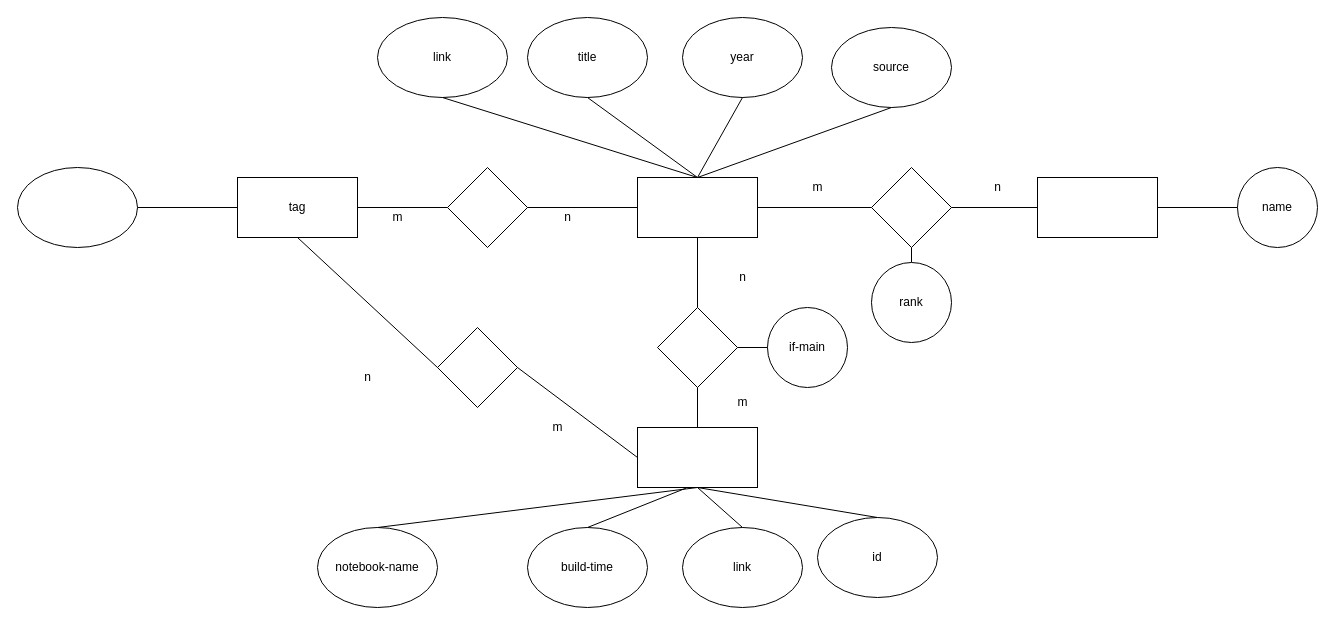
The diagram is 1335 pixels wide and 625 high, and some of its shapes have lost their labels. The shapes that lost their labels are listed below. From the top down, each one's box as (x1, y1, x2, y2) in pixels, then its label:
(16, 166, 138, 248): tag-name
(636, 176, 758, 238): paper
(1036, 176, 1158, 238): author
(636, 426, 758, 488): notebook
